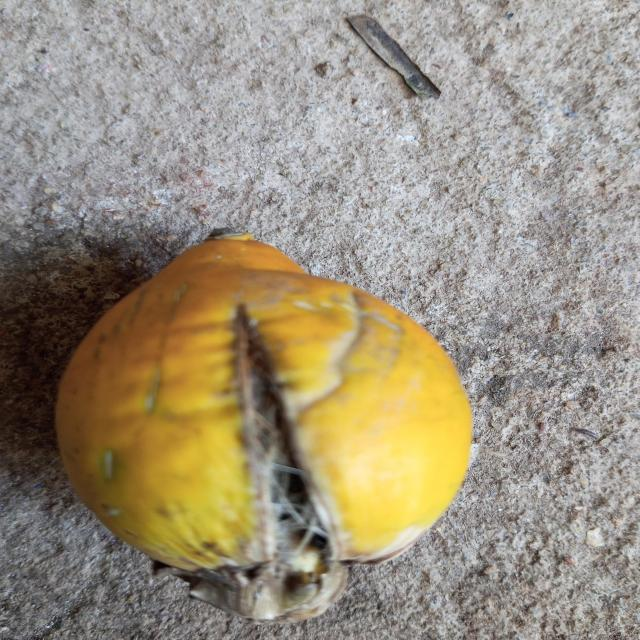damaged: (56, 236, 475, 622)
